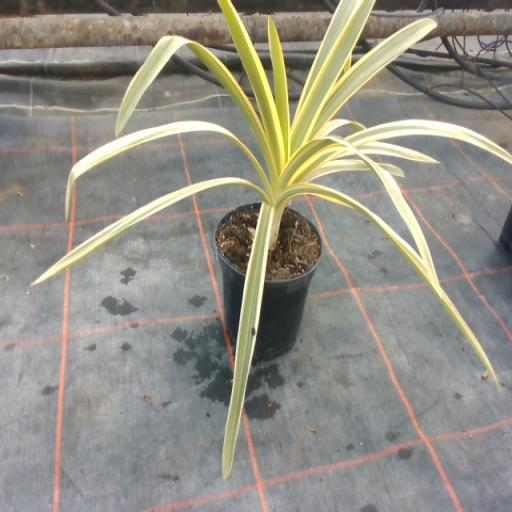Agapanthus-praecox: (289, 185, 494, 377), (32, 178, 262, 283), (277, 138, 438, 283), (116, 36, 275, 177), (66, 121, 270, 218), (222, 203, 275, 477), (314, 20, 434, 133), (292, 0, 374, 149), (219, 0, 284, 178), (347, 121, 511, 163), (303, 0, 362, 94), (269, 20, 290, 159), (358, 142, 438, 162), (314, 160, 370, 177), (318, 119, 364, 134), (34, 263, 66, 282), (382, 164, 404, 175)
